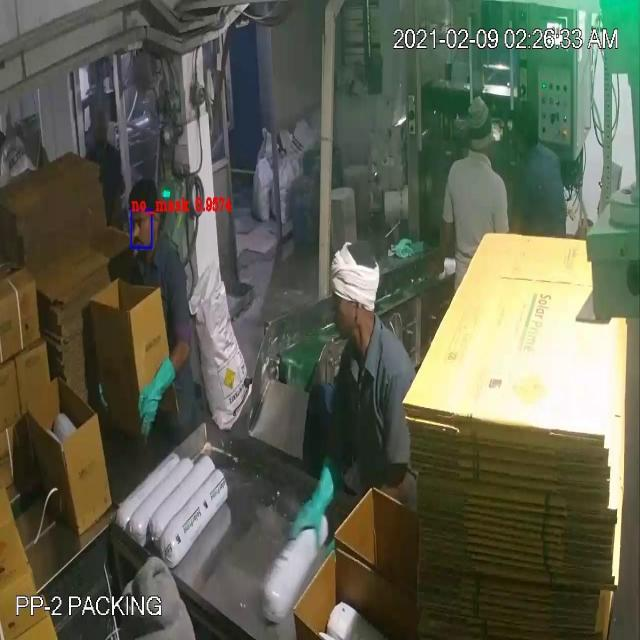Gloves: (31, 82, 442, 496)
